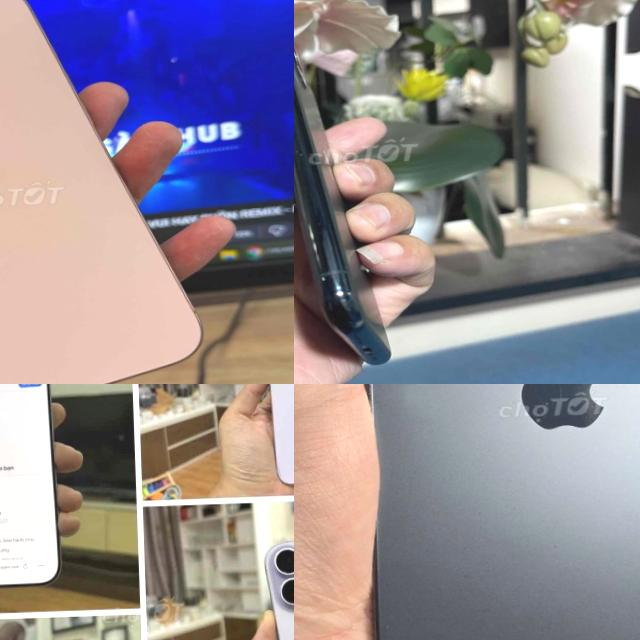gen_11: (294, 49, 389, 364)
gen_12_13: (345, 384, 640, 640)
gen_16: (0, 0, 200, 384)
gen_17: (0, 384, 68, 592)
